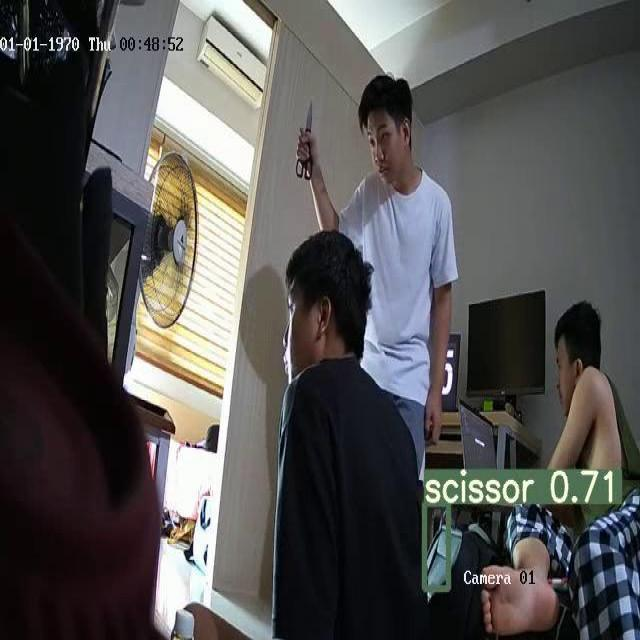scissor: (297, 102, 314, 182)
